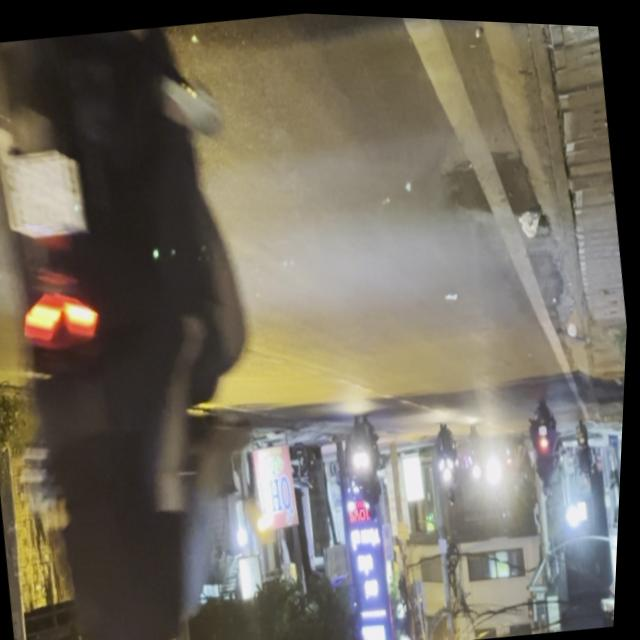licenseplate: (0, 16, 310, 640)
nohelmet: (0, 148, 90, 244)
